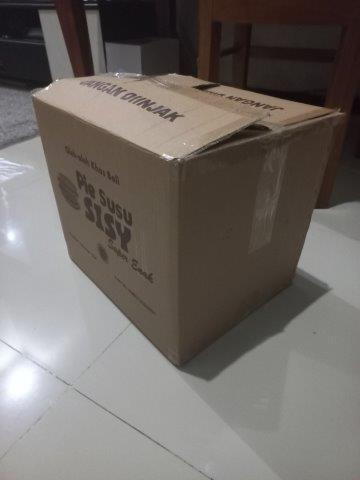kardus: (34, 70, 342, 368)
